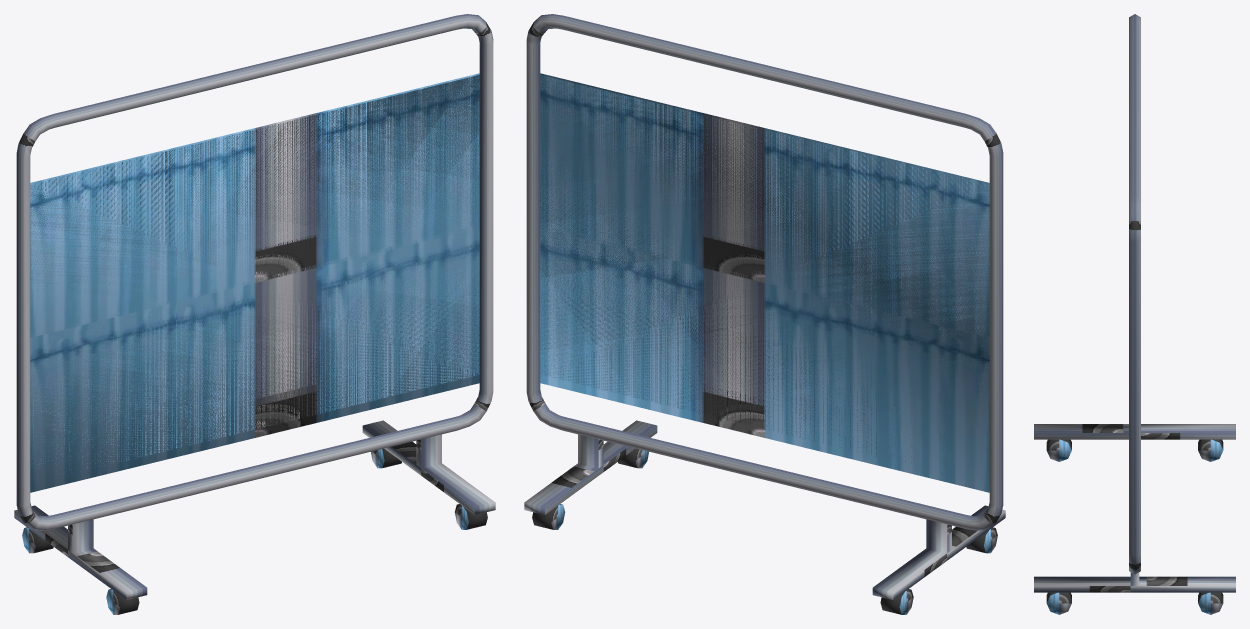
File: int_hsp_screen.dae
The picture shows the model from 3 angles, left to right: view 1: azimuth 30°, elevation 25°; view 2: azimuth 150°, elevation 25°; view 3: azimuth 270°, elevation 25°; orthographic projection. The views are drawn at different scales.
Visible parts, largest first — view 1: int_hsp_screen; view 2: int_hsp_screen; view 3: int_hsp_screen.
Boxes of the visible parts, x1,y1,x2,y2 form: int_hsp_screen: [14, 14, 495, 614]; int_hsp_screen: [524, 14, 1005, 614]; int_hsp_screen: [1034, 14, 1235, 614].
Bounding box in the file's own units: 58.84 × 55.96 × 24.
Materials: 1 (1 with a texture image).
